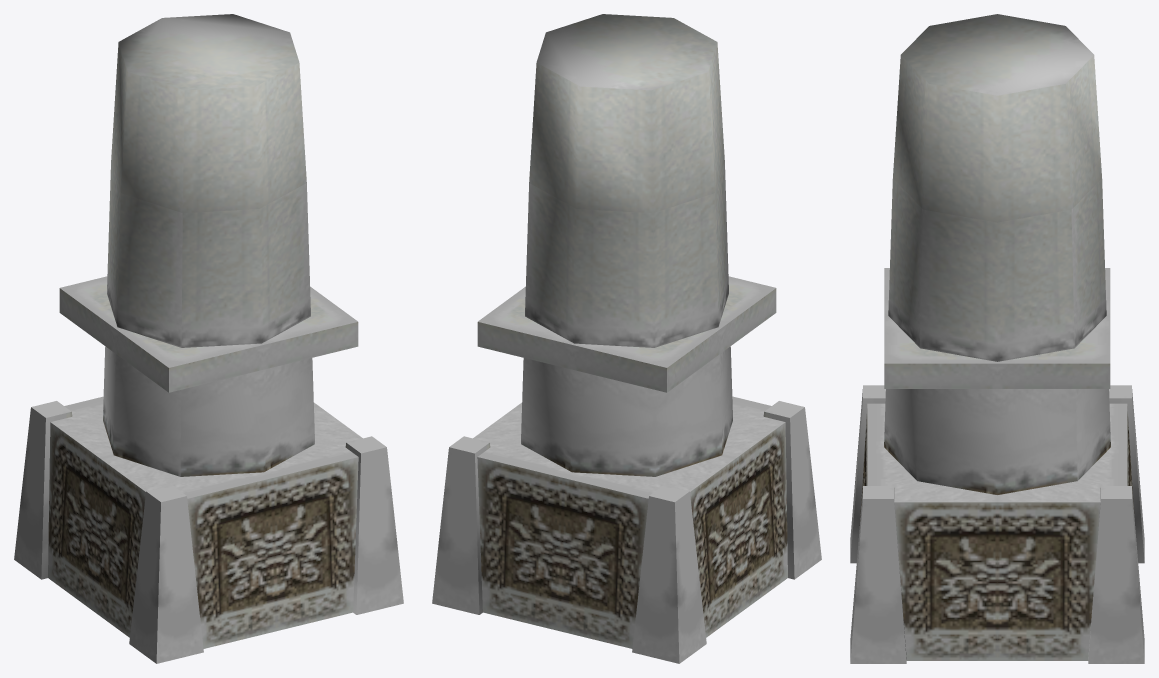
The model's file is general_obj_bigtower04.fbx.
3 views of the same model, side by side, from view 1: azimuth 30°, elevation 25°; view 2: azimuth 150°, elevation 25°; view 3: azimuth 270°, elevation 25° (orthographic). The views are drawn at different scales.
Parts seen in each view (by area): view 1: Sphere01; view 2: Sphere01; view 3: Sphere01.
Boxes of the visible parts, <box> form: Sphere01: <box>14,14,403,663</box>; Sphere01: <box>432,14,821,663</box>; Sphere01: <box>850,14,1144,663</box>.
Size of the model in its own units: 5.22 by 10.68 by 5.21.
